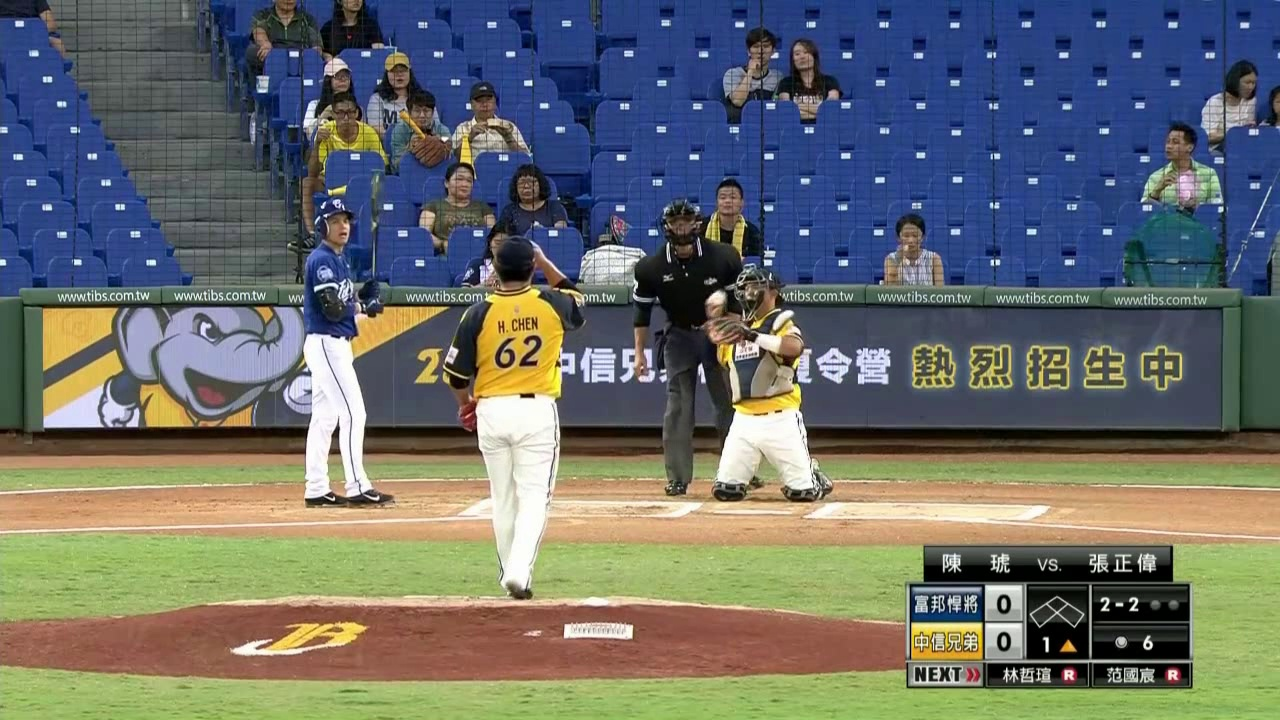ball: (712, 295, 723, 305)
base: (1027, 588, 1087, 632)
bat: (371, 170, 388, 283)
out: (1148, 595, 1187, 618)
score1: (987, 589, 1020, 623)
score2: (987, 626, 1023, 661)
session: (1027, 634, 1088, 663)
strikeball: (1094, 590, 1146, 616)
total: (1108, 629, 1158, 656)
